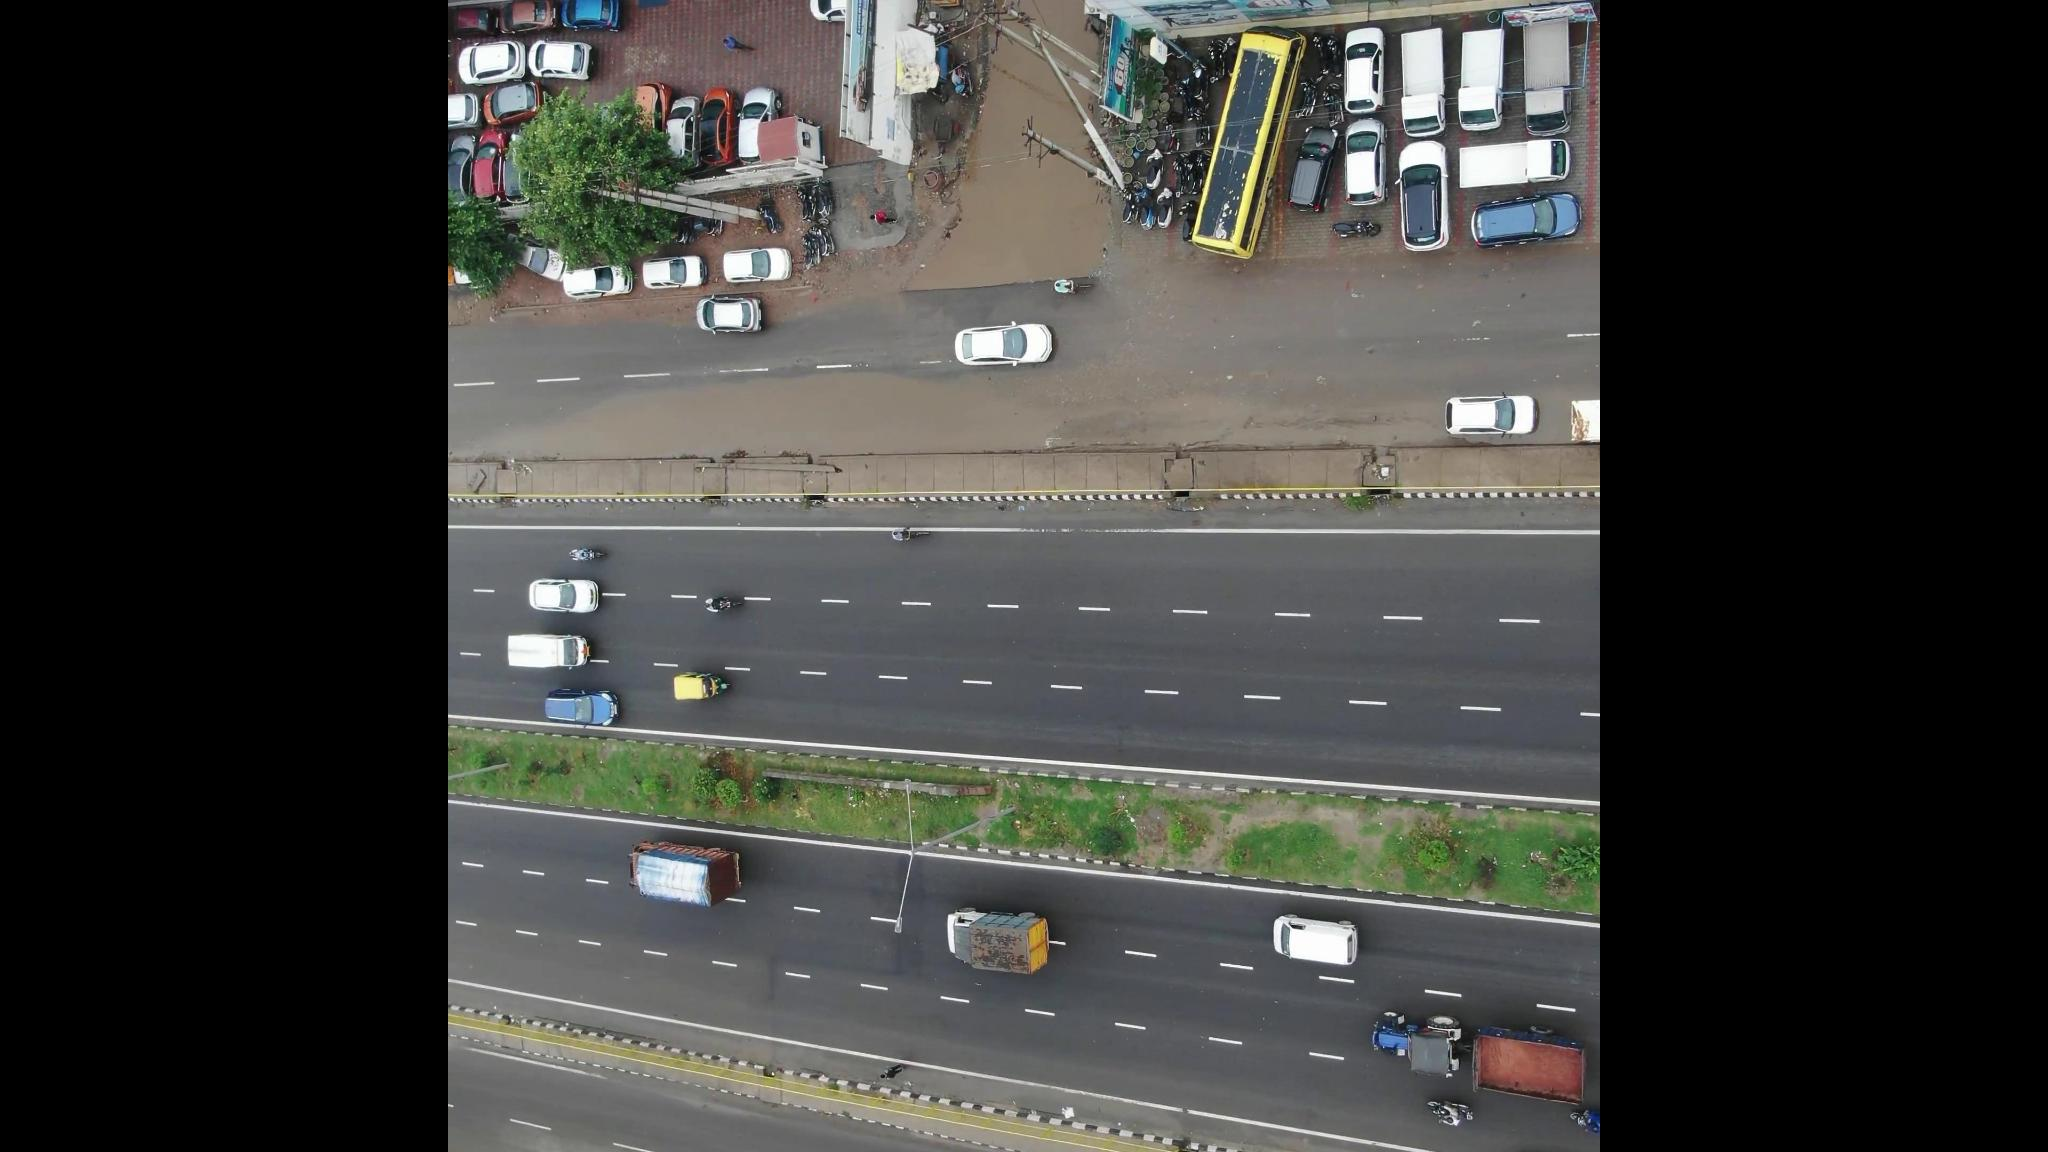Muddy_road: (1128, 405, 1409, 444)
Waterlogging: (488, 381, 1025, 477), (907, 181, 1104, 293)
